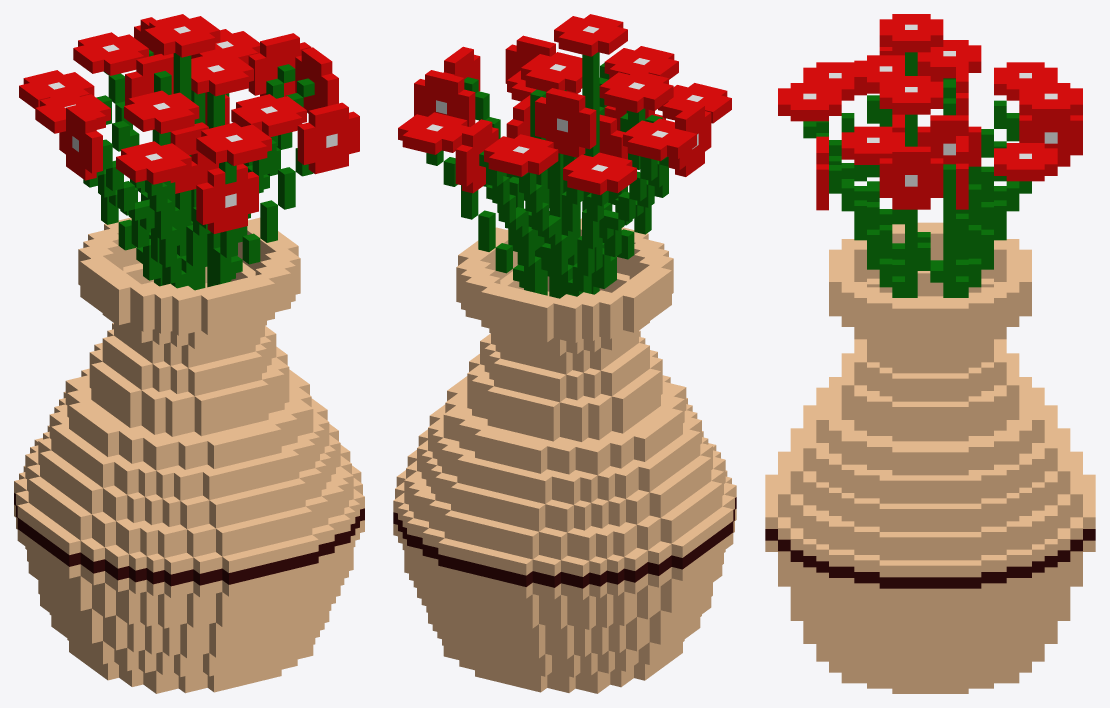
File: Flower Pot-1.obj
3 views of the same model, side by side, from view 1: azimuth 30°, elevation 25°; view 2: azimuth 150°, elevation 25°; view 3: azimuth 270°, elevation 25° (orthographic). The views are drawn at different scales.
Visible parts, largest first — view 1: Flower Pot-1; view 2: Flower Pot-1; view 3: Flower Pot-1.
Boxes of the visible parts, box(x1,y1,x2,y2) form: Flower Pot-1: box(14, 14, 364, 693); Flower Pot-1: box(393, 14, 736, 693); Flower Pot-1: box(765, 14, 1095, 693).
Size of the model in its own units: 26 by 53 by 26.
1 material, 1 textured.
